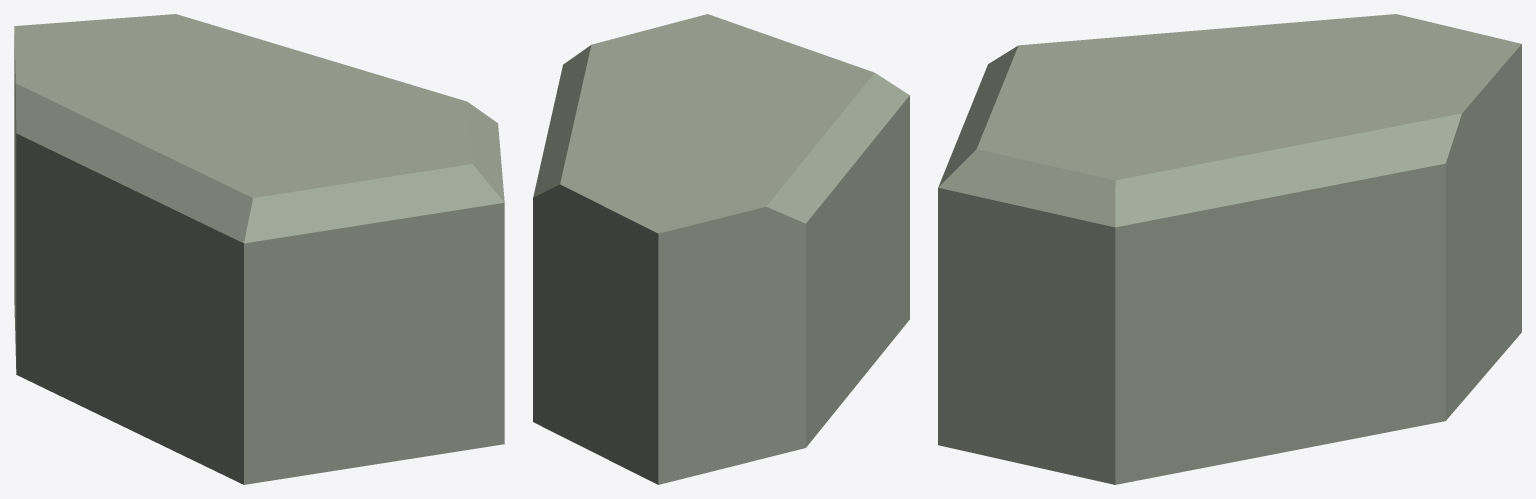
File: Rock_Type1_04.glb
The picture shows the model from 3 angles, left to right: view 1: azimuth 30°, elevation 25°; view 2: azimuth 150°, elevation 25°; view 3: azimuth 270°, elevation 25°; orthographic projection. The views are drawn at different scales.
Visible parts, largest first — view 1: Rock Type1 04 mesh; view 2: Rock Type1 04 mesh; view 3: Rock Type1 04 mesh.
Part boxes in pixels (x1,y1,x2,y2): Rock Type1 04 mesh: (14, 14, 504, 484); Rock Type1 04 mesh: (533, 14, 909, 484); Rock Type1 04 mesh: (938, 14, 1521, 484).
Bounding box in the file's own units: 0.5606 × 0.3901 × 0.7152.
1 material, 1 textured.
